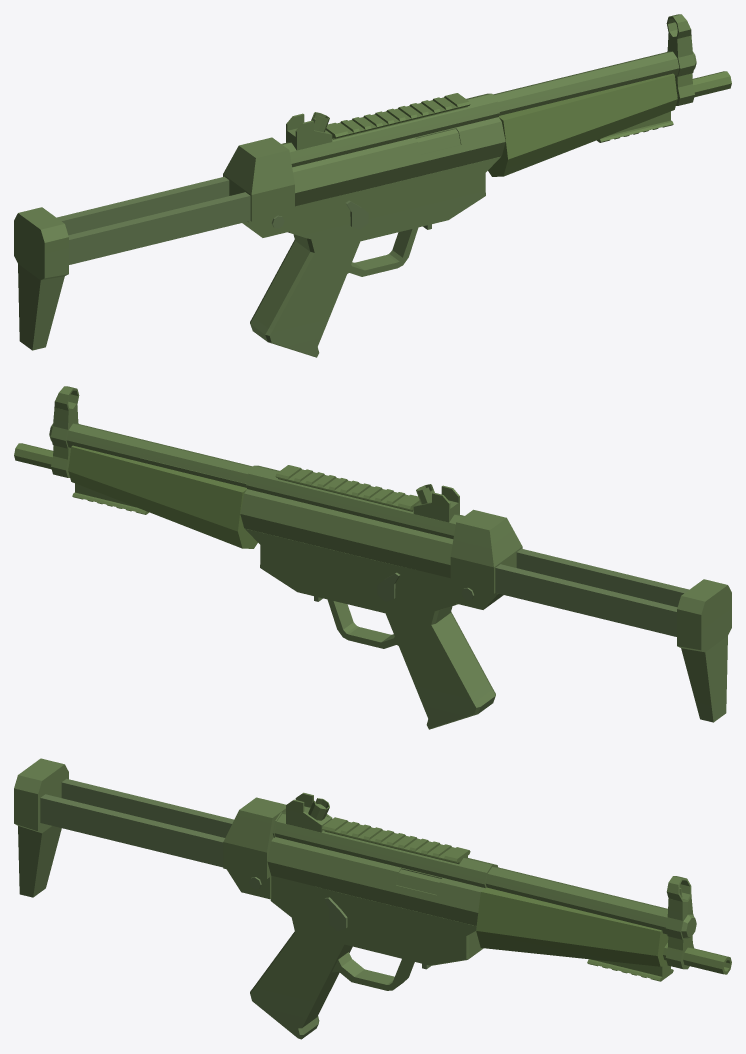
The model's file is SMG2_01.fbx.
3 renders of one model, top to bottom at view 1: azimuth 30°, elevation 25°; view 2: azimuth 150°, elevation 25°; view 3: azimuth 330°, elevation 25°, orthographic.
Parts seen in each view (by area): view 1: SMG2_01; view 2: SMG2_01; view 3: SMG2_01.
Part boxes in pixels (x1,y1,x2,y2): SMG2_01: [14, 14, 731, 357]; SMG2_01: [14, 386, 731, 729]; SMG2_01: [14, 758, 731, 1039].
Bounding box in the file's own units: 0.7164 × 0.2409 × 0.0566.
